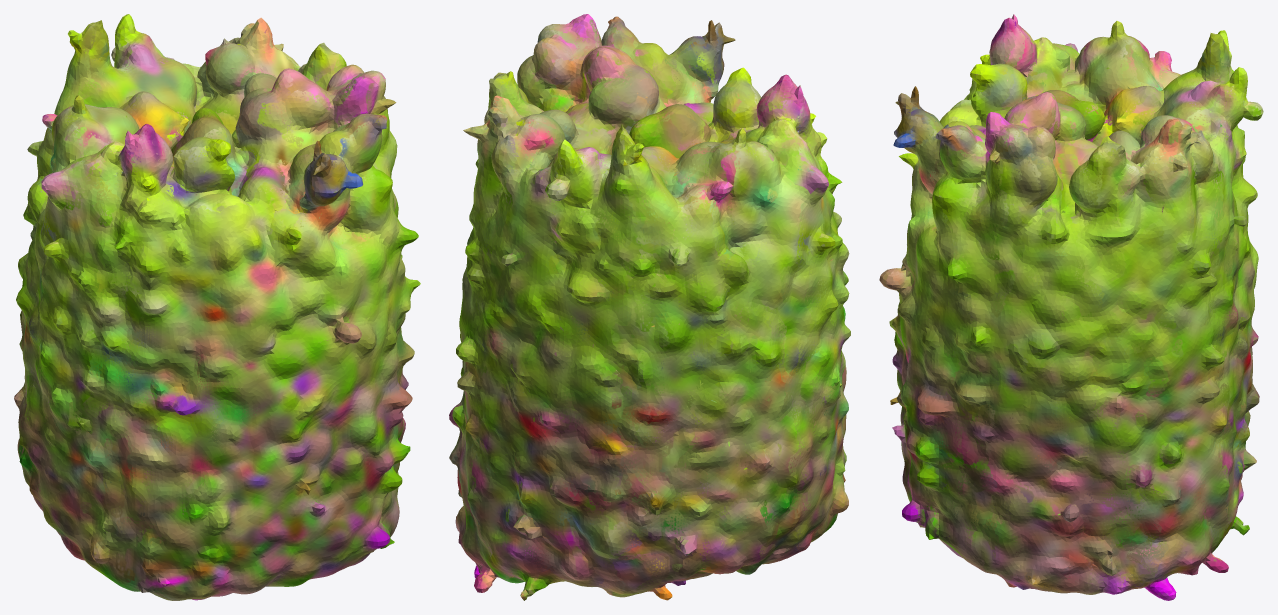
Rendered from forest.glb.
3 views of the same model, side by side, from view 1: azimuth 30°, elevation 25°; view 2: azimuth 150°, elevation 25°; view 3: azimuth 270°, elevation 25° (orthographic). The views are drawn at different scales.
Size of the model in its own units: 1.28 by 1.76 by 1.24.
1 material, 1 textured.
